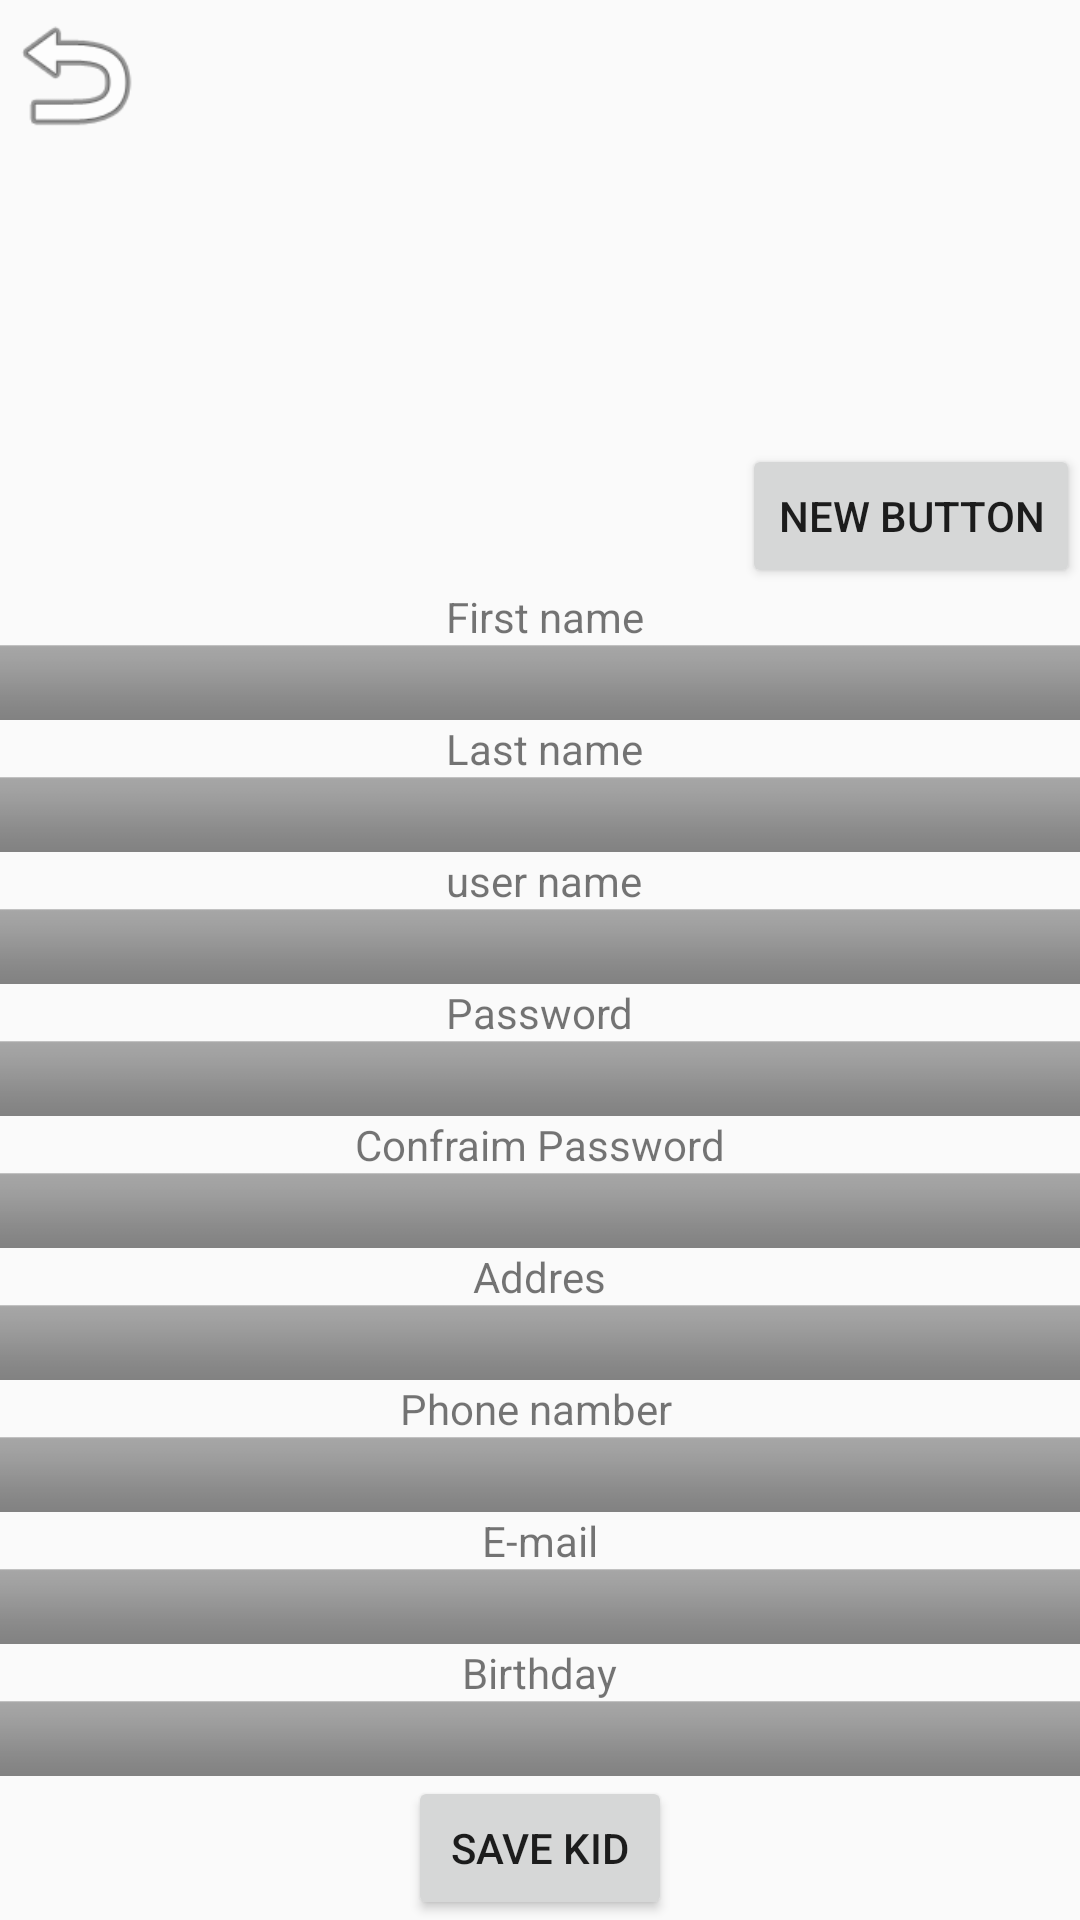

Screen size 1080px x 1920px. Icon name, then its center in pixels as point (x, y):
revert: point (77, 76)
